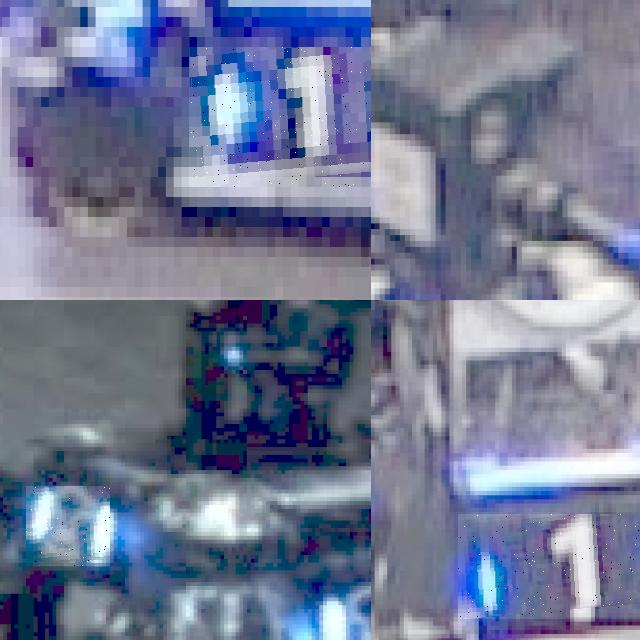B1: (189, 47, 371, 187), (457, 513, 640, 619)
Bs: (26, 486, 110, 566), (319, 585, 371, 640)
